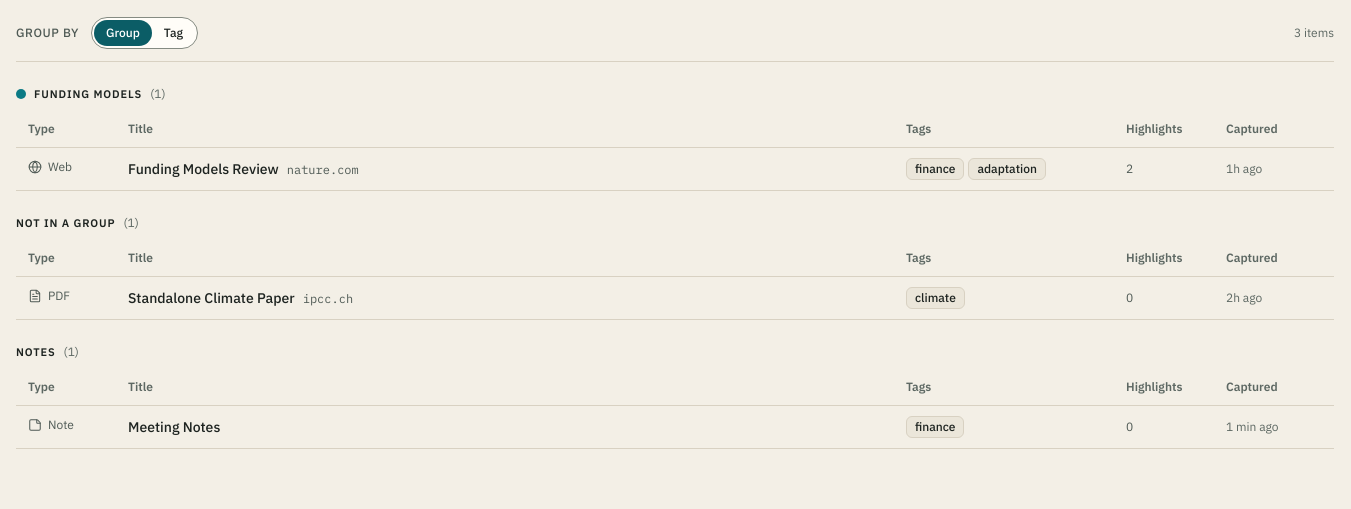
Test case: ListView › group-by-tag puts a card under each of its tags
The image size is (1351, 509).
What coordinates should you click on to do the following:
click the button "Tag"
I would click on:
 (173, 33)
Its box is [152, 20, 195, 46].
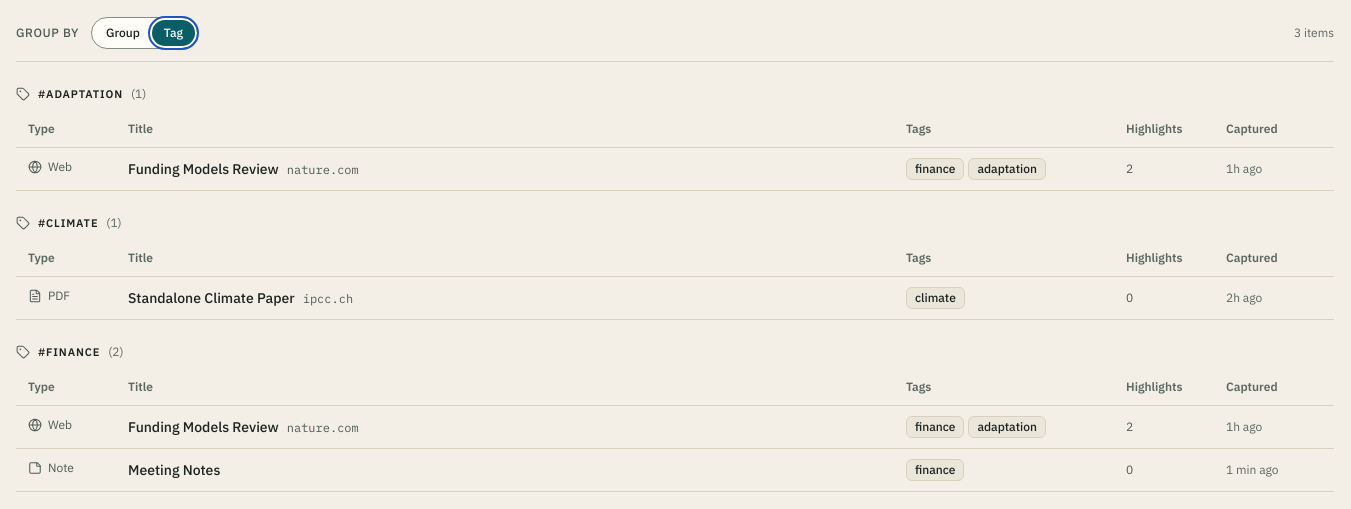
Check: the heading "#adaptation" is shown, box [38, 87, 123, 101]
Check: the heading "#finance" is shown, box [38, 345, 100, 359]
Check: the heading "#climate" is shown, box [38, 216, 98, 230]
